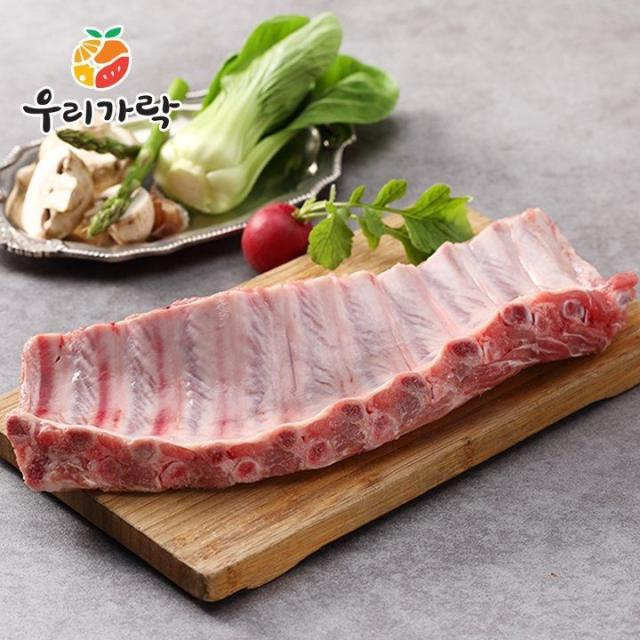pork: (1, 241, 630, 493)
